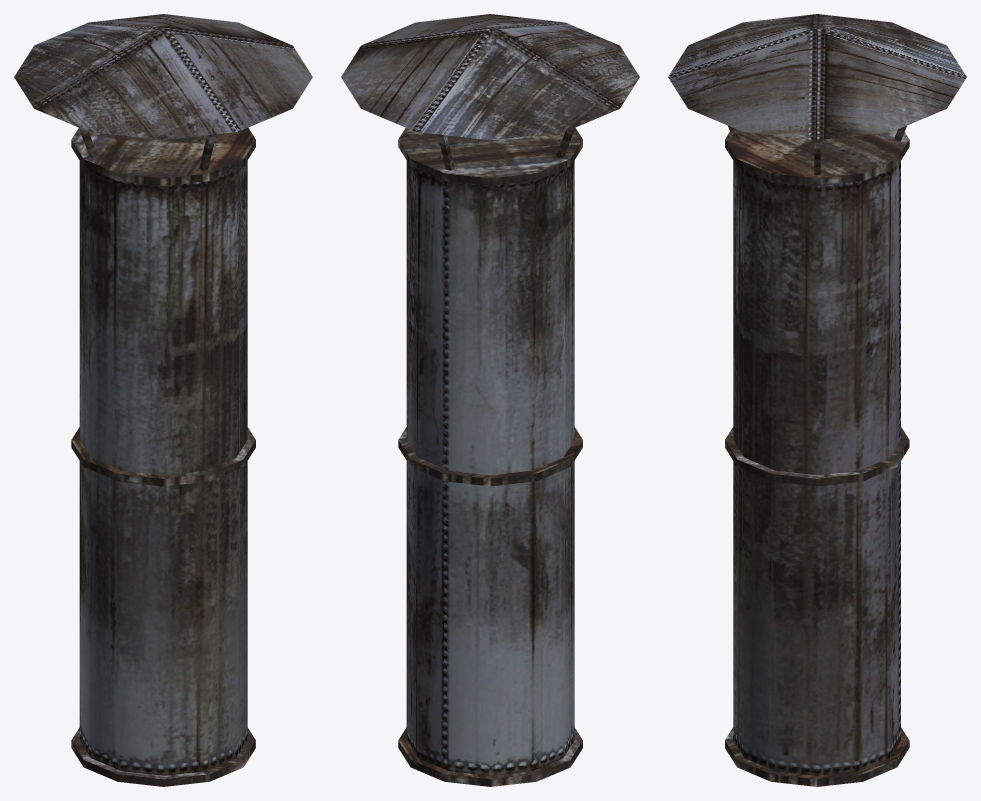
Rendered from ventilation_pipe_topcap.DAE.
3 renders of one model, left to right at view 1: azimuth 30°, elevation 25°; view 2: azimuth 150°, elevation 25°; view 3: azimuth 270°, elevation 25°, orthographic.
Parts seen in each view (by area): view 1: Cylinder005; view 2: Cylinder005; view 3: Cylinder005.
Boxes of the visible parts, box(x1,y1,x2,y2) form: Cylinder005: box(14, 14, 312, 786); Cylinder005: box(341, 14, 639, 786); Cylinder005: box(668, 14, 966, 786).
Size of the model in its own units: 1.78 by 4.73 by 1.78.
